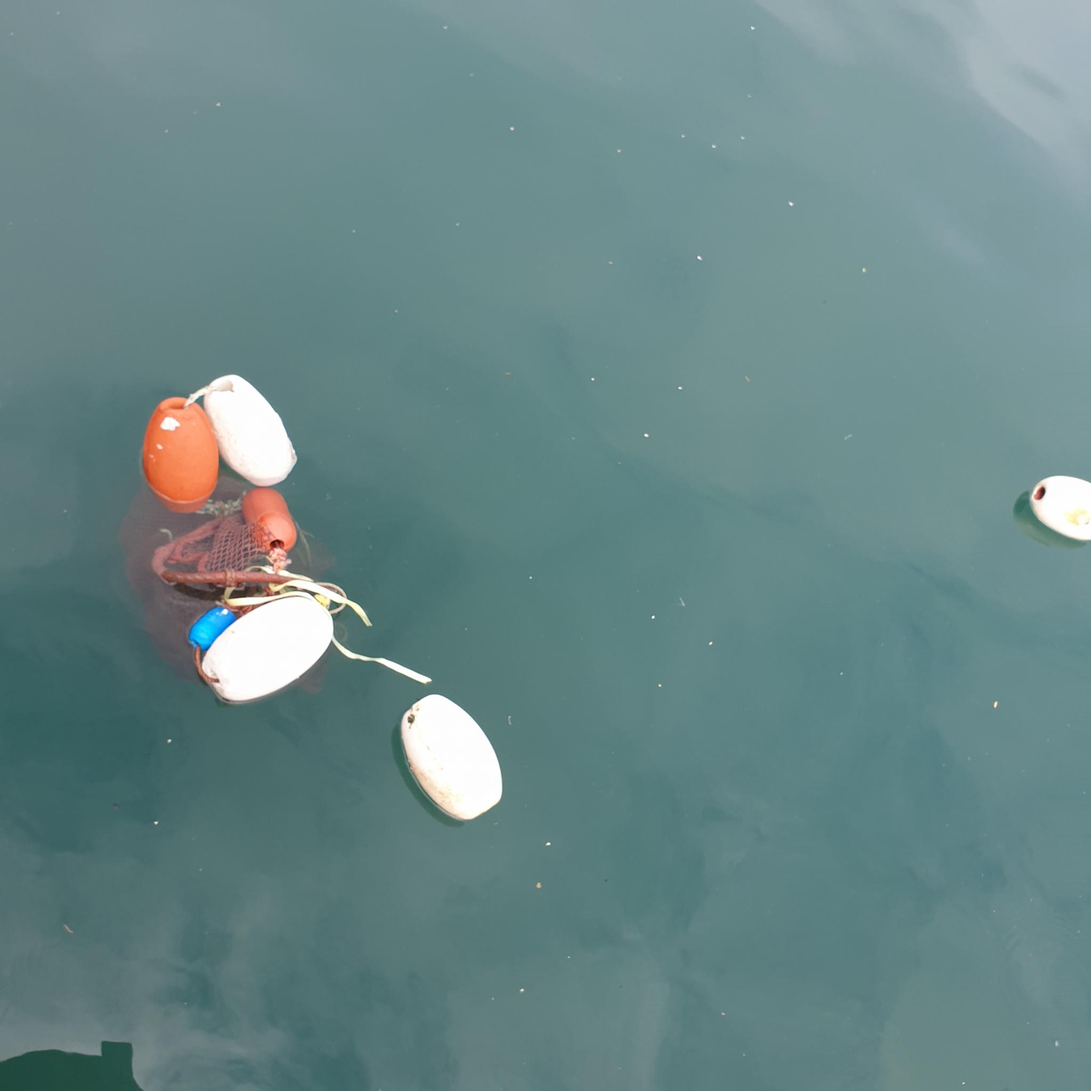sampah_terapung: (152, 386, 347, 683), (117, 469, 348, 694), (202, 597, 334, 701), (402, 694, 503, 820), (204, 374, 297, 487), (143, 397, 220, 514), (1030, 476, 1091, 541), (242, 488, 297, 554), (188, 607, 237, 652)
